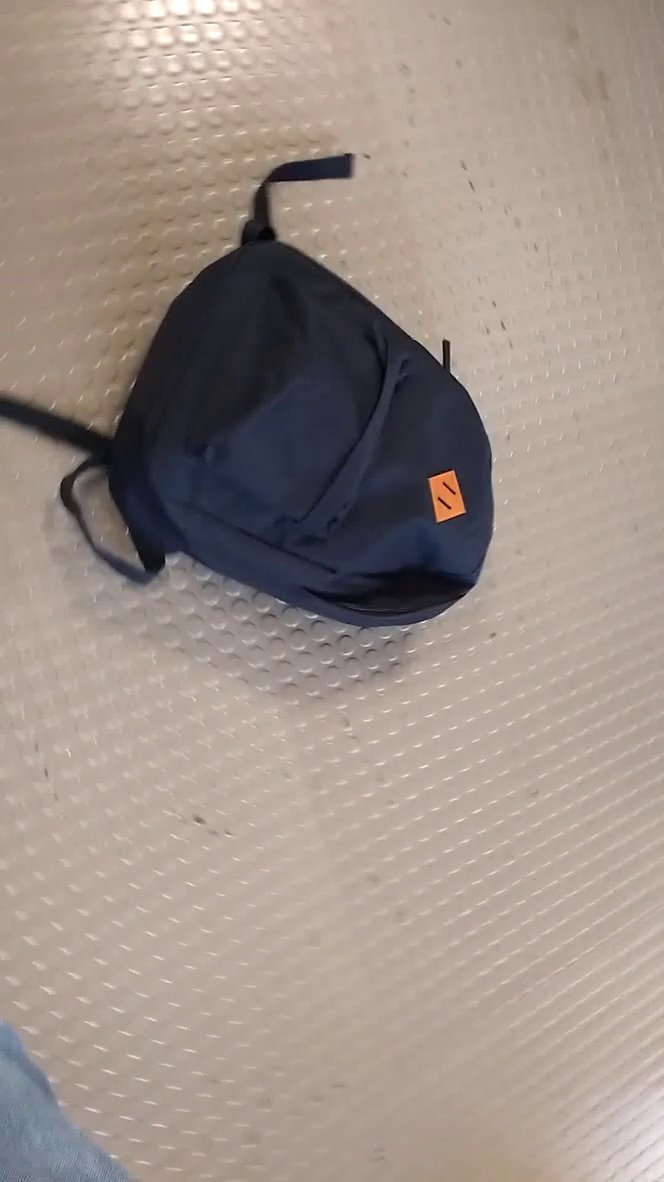bag: (1, 128, 517, 630)
